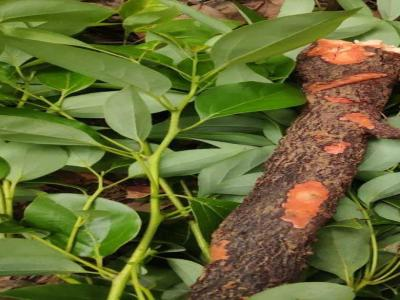Root: (189, 40, 399, 300)
